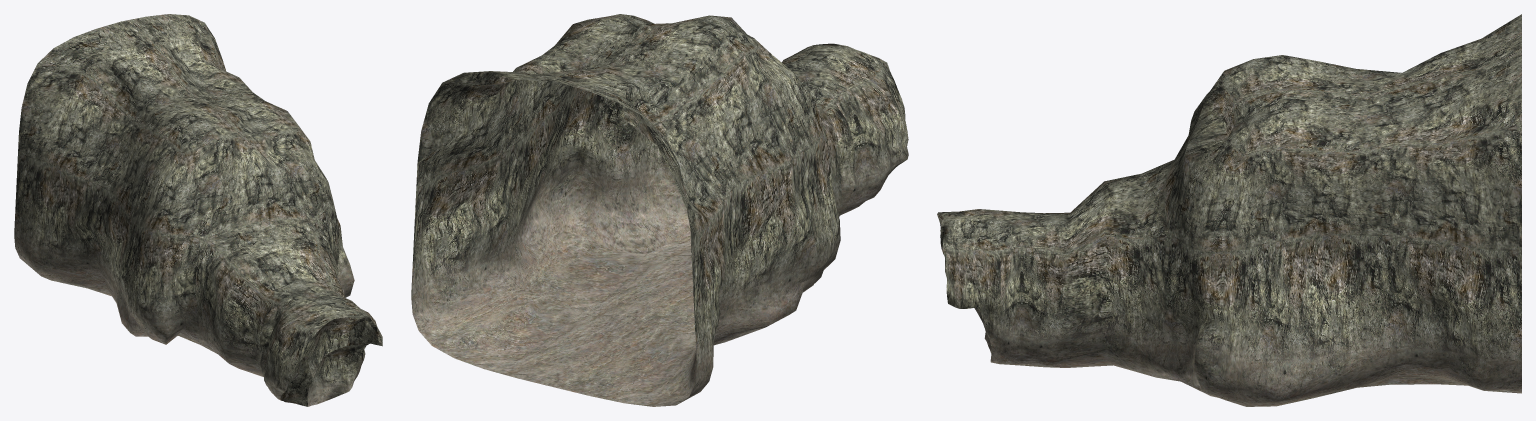
File: poi_all_bunker_mad_bio_s01_r14_largecavehall2_mesh_r14.fbx
The picture shows the model from 3 angles, left to right: view 1: azimuth 30°, elevation 25°; view 2: azimuth 150°, elevation 25°; view 3: azimuth 270°, elevation 25°; orthographic projection. The views are drawn at different scales.
Visible parts, largest first — view 1: mesh_node; view 2: mesh_node; view 3: mesh_node.
Part boxes in pixels (left/top/right/bottom): mesh_node: left=14, top=14, right=382, bottom=406; mesh_node: left=411, top=14, right=908, bottom=406; mesh_node: left=937, top=14, right=1521, bottom=406.
Bounding box in the file's own units: 16.54 × 16.29 × 28.06.
